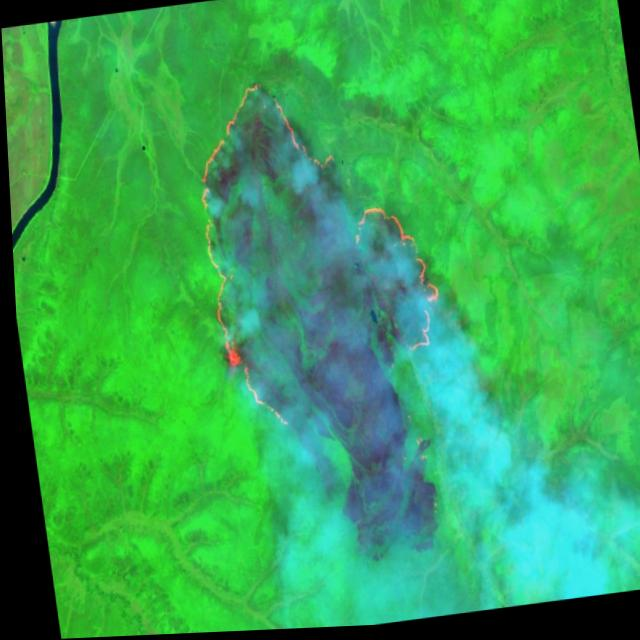fire: (169, 47, 453, 432)
